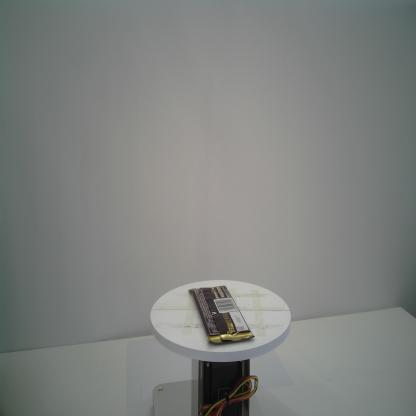Chocolate: (188, 282, 257, 348)
